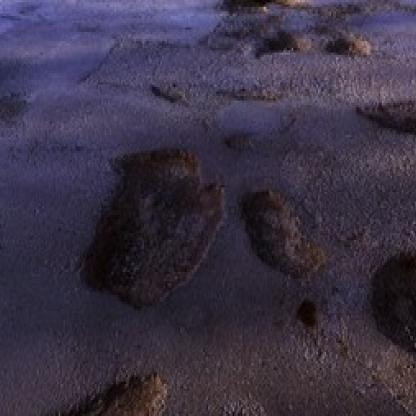pothole: (80, 148, 228, 311), (241, 185, 323, 284), (28, 368, 169, 416), (367, 249, 416, 377), (356, 98, 416, 144), (256, 28, 312, 60), (323, 30, 372, 62), (218, 0, 305, 14), (295, 297, 320, 327), (151, 82, 182, 105)
